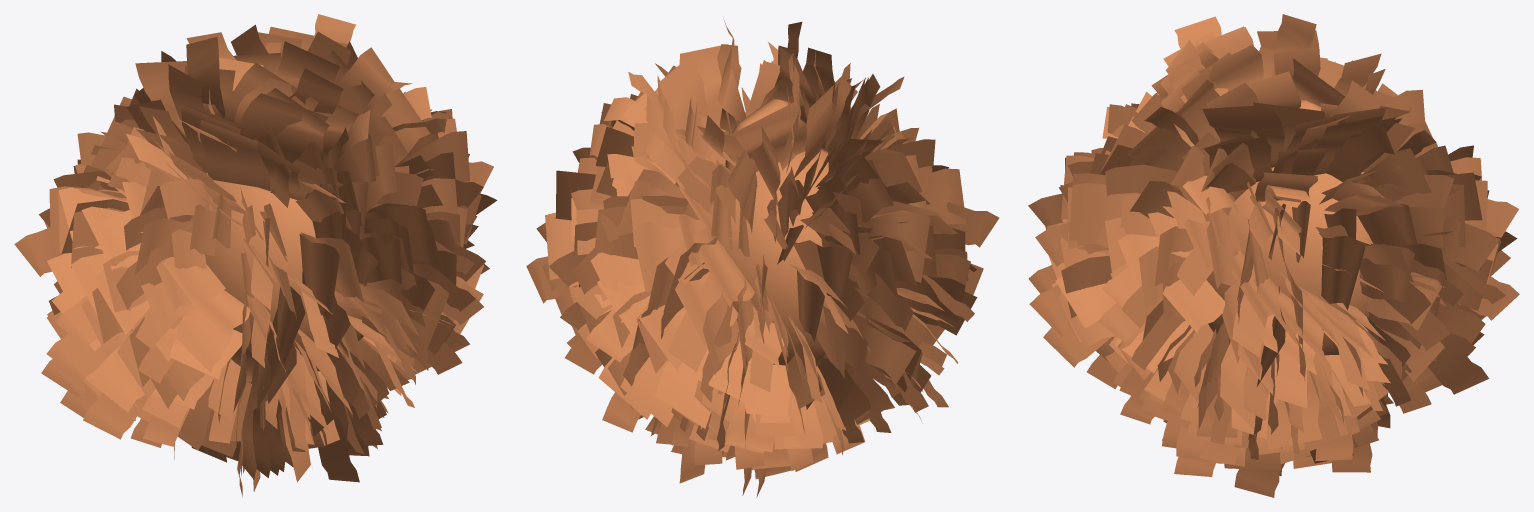
File: SM_Pompom_L.fbx
The picture shows the model from 3 angles, left to right: view 1: azimuth 30°, elevation 25°; view 2: azimuth 150°, elevation 25°; view 3: azimuth 270°, elevation 25°; orthographic projection. The views are drawn at different scales.
Parts seen in each view (by area): view 1: Pompom_L; view 2: Pompom_L; view 3: Pompom_L.
Boxes of the visible parts, x1,y1,x2,y2 form: Pompom_L: [14, 14, 497, 497]; Pompom_L: [526, 19, 999, 497]; Pompom_L: [1028, 14, 1519, 497].
Size of the model in its own units: 27.71 by 27.53 by 27.74.
